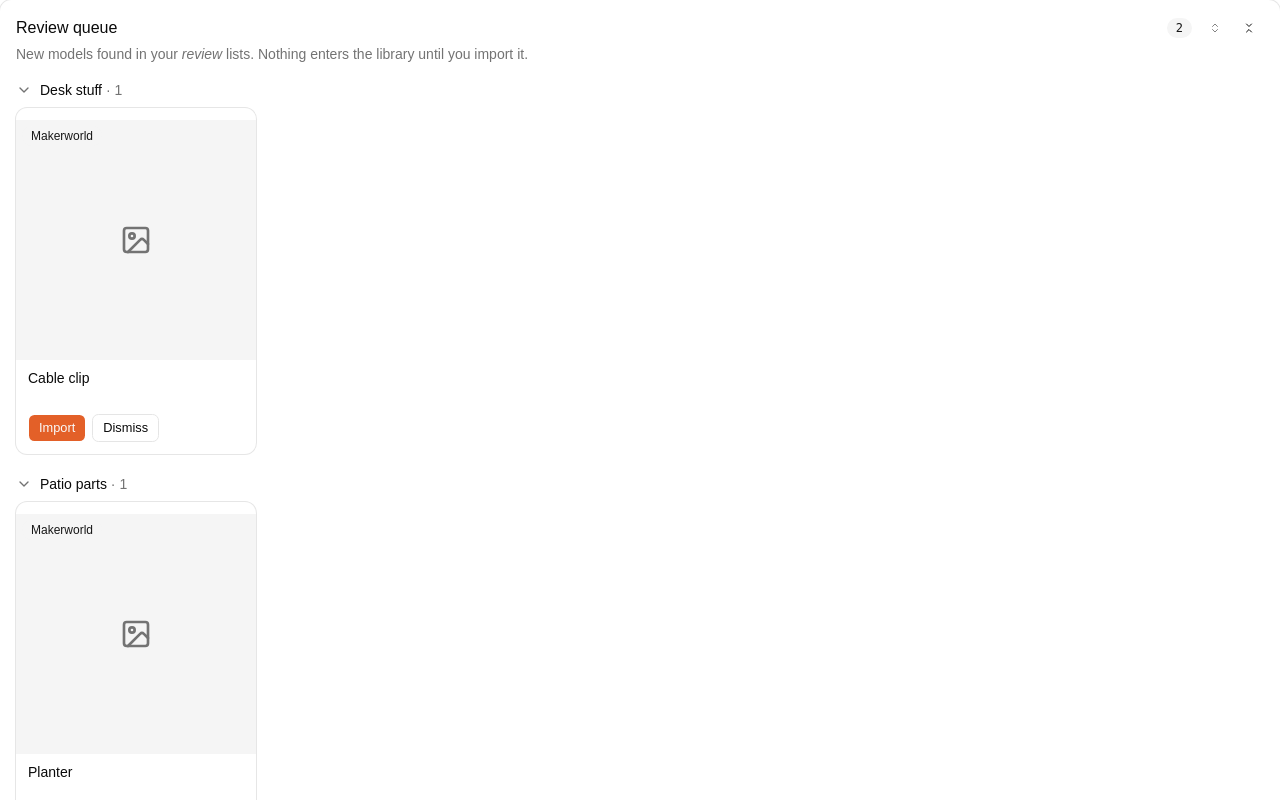
Test: ReviewQueueCard › collapses and re-expands every review group via the expand/collapse-all controls, disabling at the all-open/all-closed boundaries
The width and height of the screenshot is (1280, 800).
Expected: the button named "Expand all review groups" is disabled, top-left (1200, 16), bottom-right (1230, 40)
Click the button named "Collapse all review groups" at (1249, 28), box top-left (1234, 16), bottom-right (1264, 40)
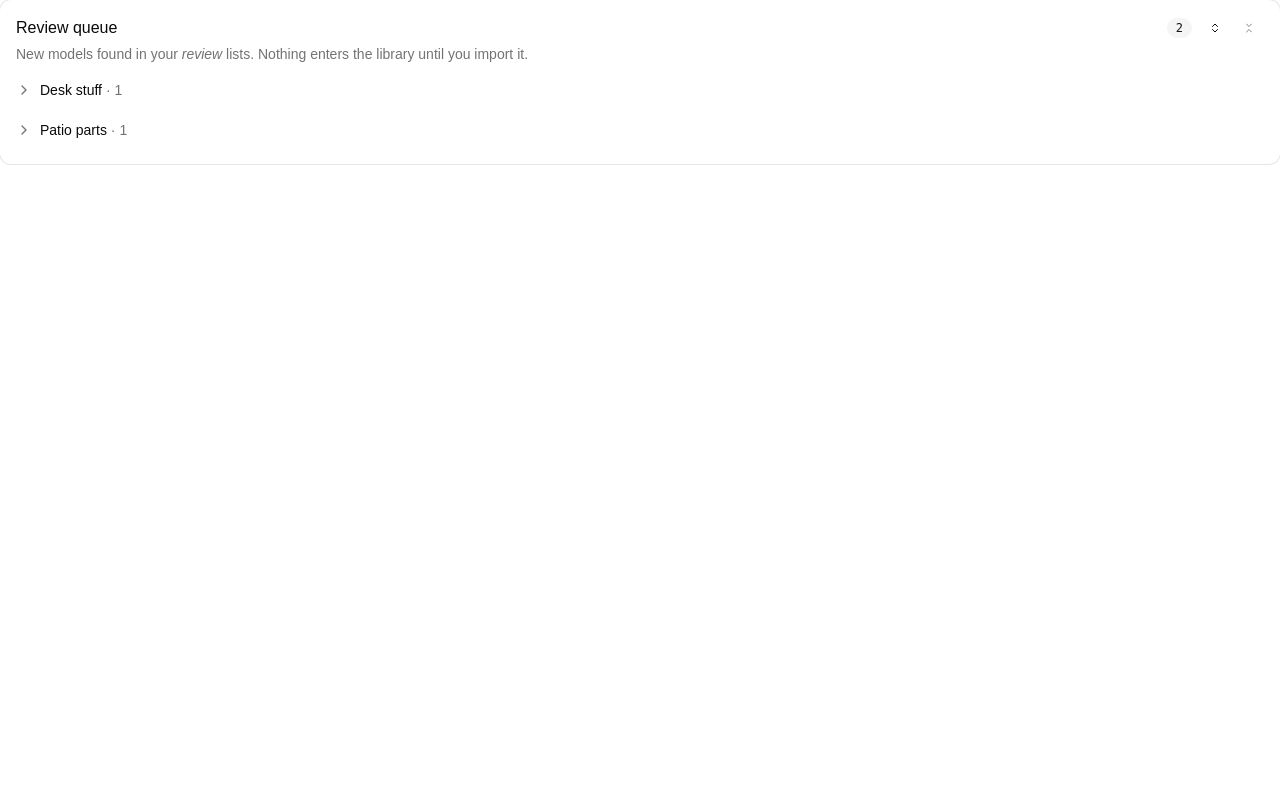
Result: the button "Desk stuff · 1" is collapsed at top-left (16, 80), bottom-right (1264, 100)
Result: the button "Patio parts · 1" is collapsed at top-left (16, 120), bottom-right (1264, 140)
Result: the heading "Cable clip" is gone
Click the button named "Expand all review groups" at (1215, 28), box top-left (1200, 16), bottom-right (1230, 40)
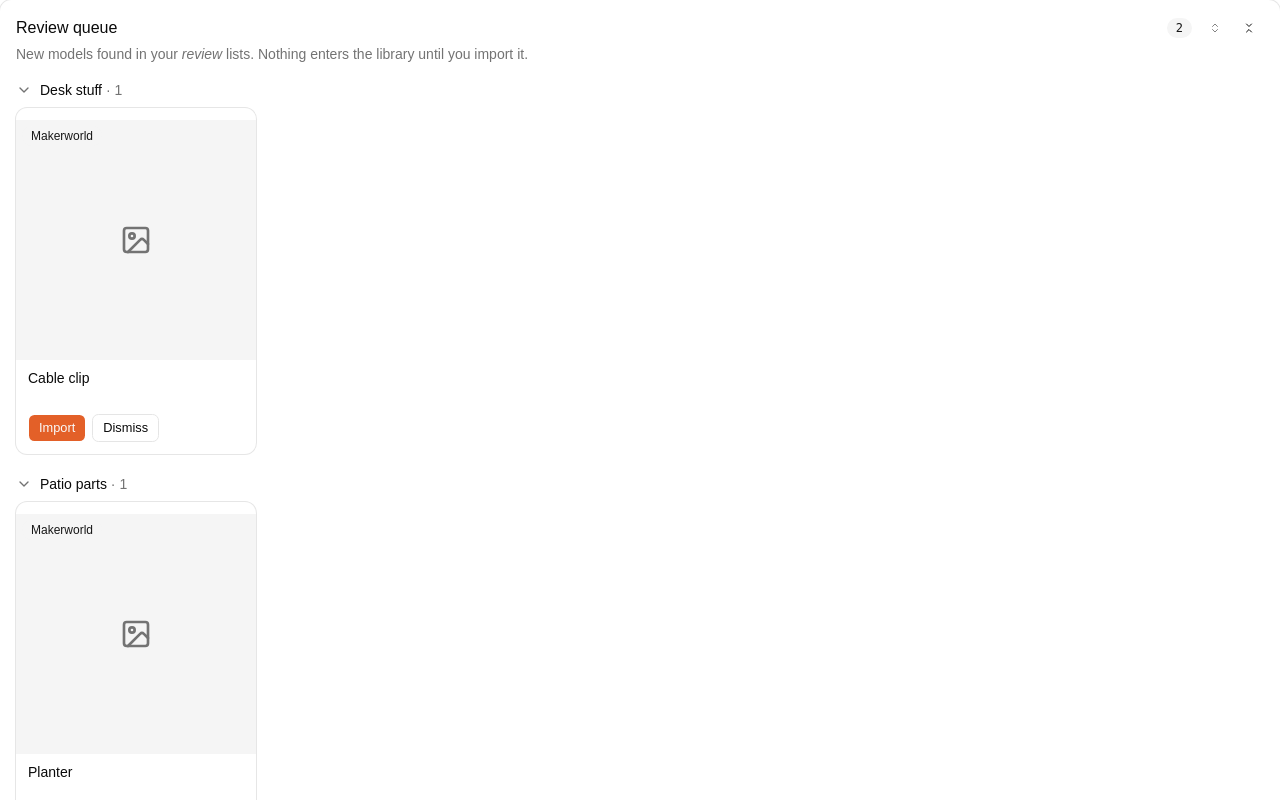
Result: the button "Desk stuff · 1" is expanded at top-left (16, 80), bottom-right (1264, 100)
Result: the button "Patio parts · 1" is expanded at top-left (16, 474), bottom-right (1264, 494)
Result: the heading "Cable clip" is shown at top-left (28, 370), bottom-right (90, 386)
